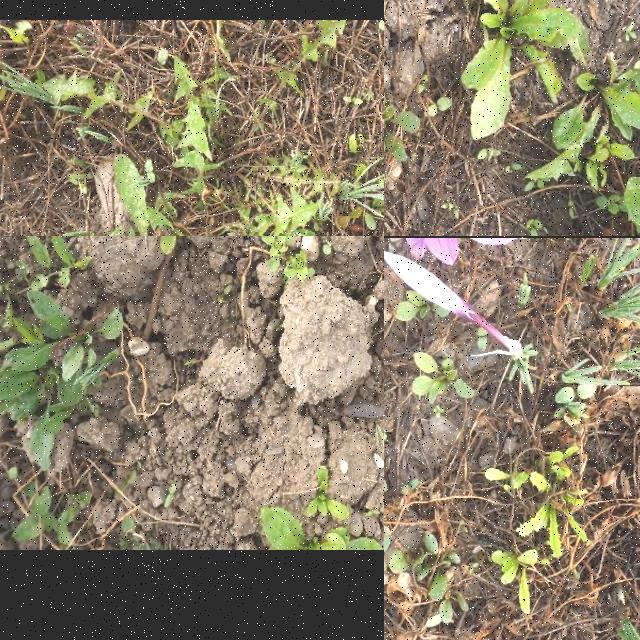flower: (384, 250, 482, 324)
